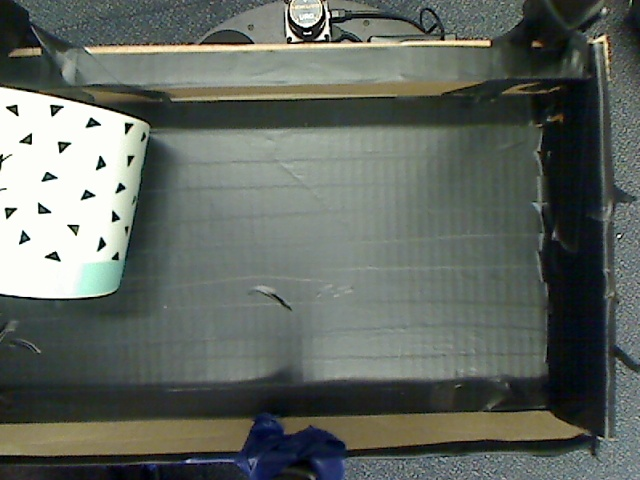mug: (1, 81, 176, 309)
